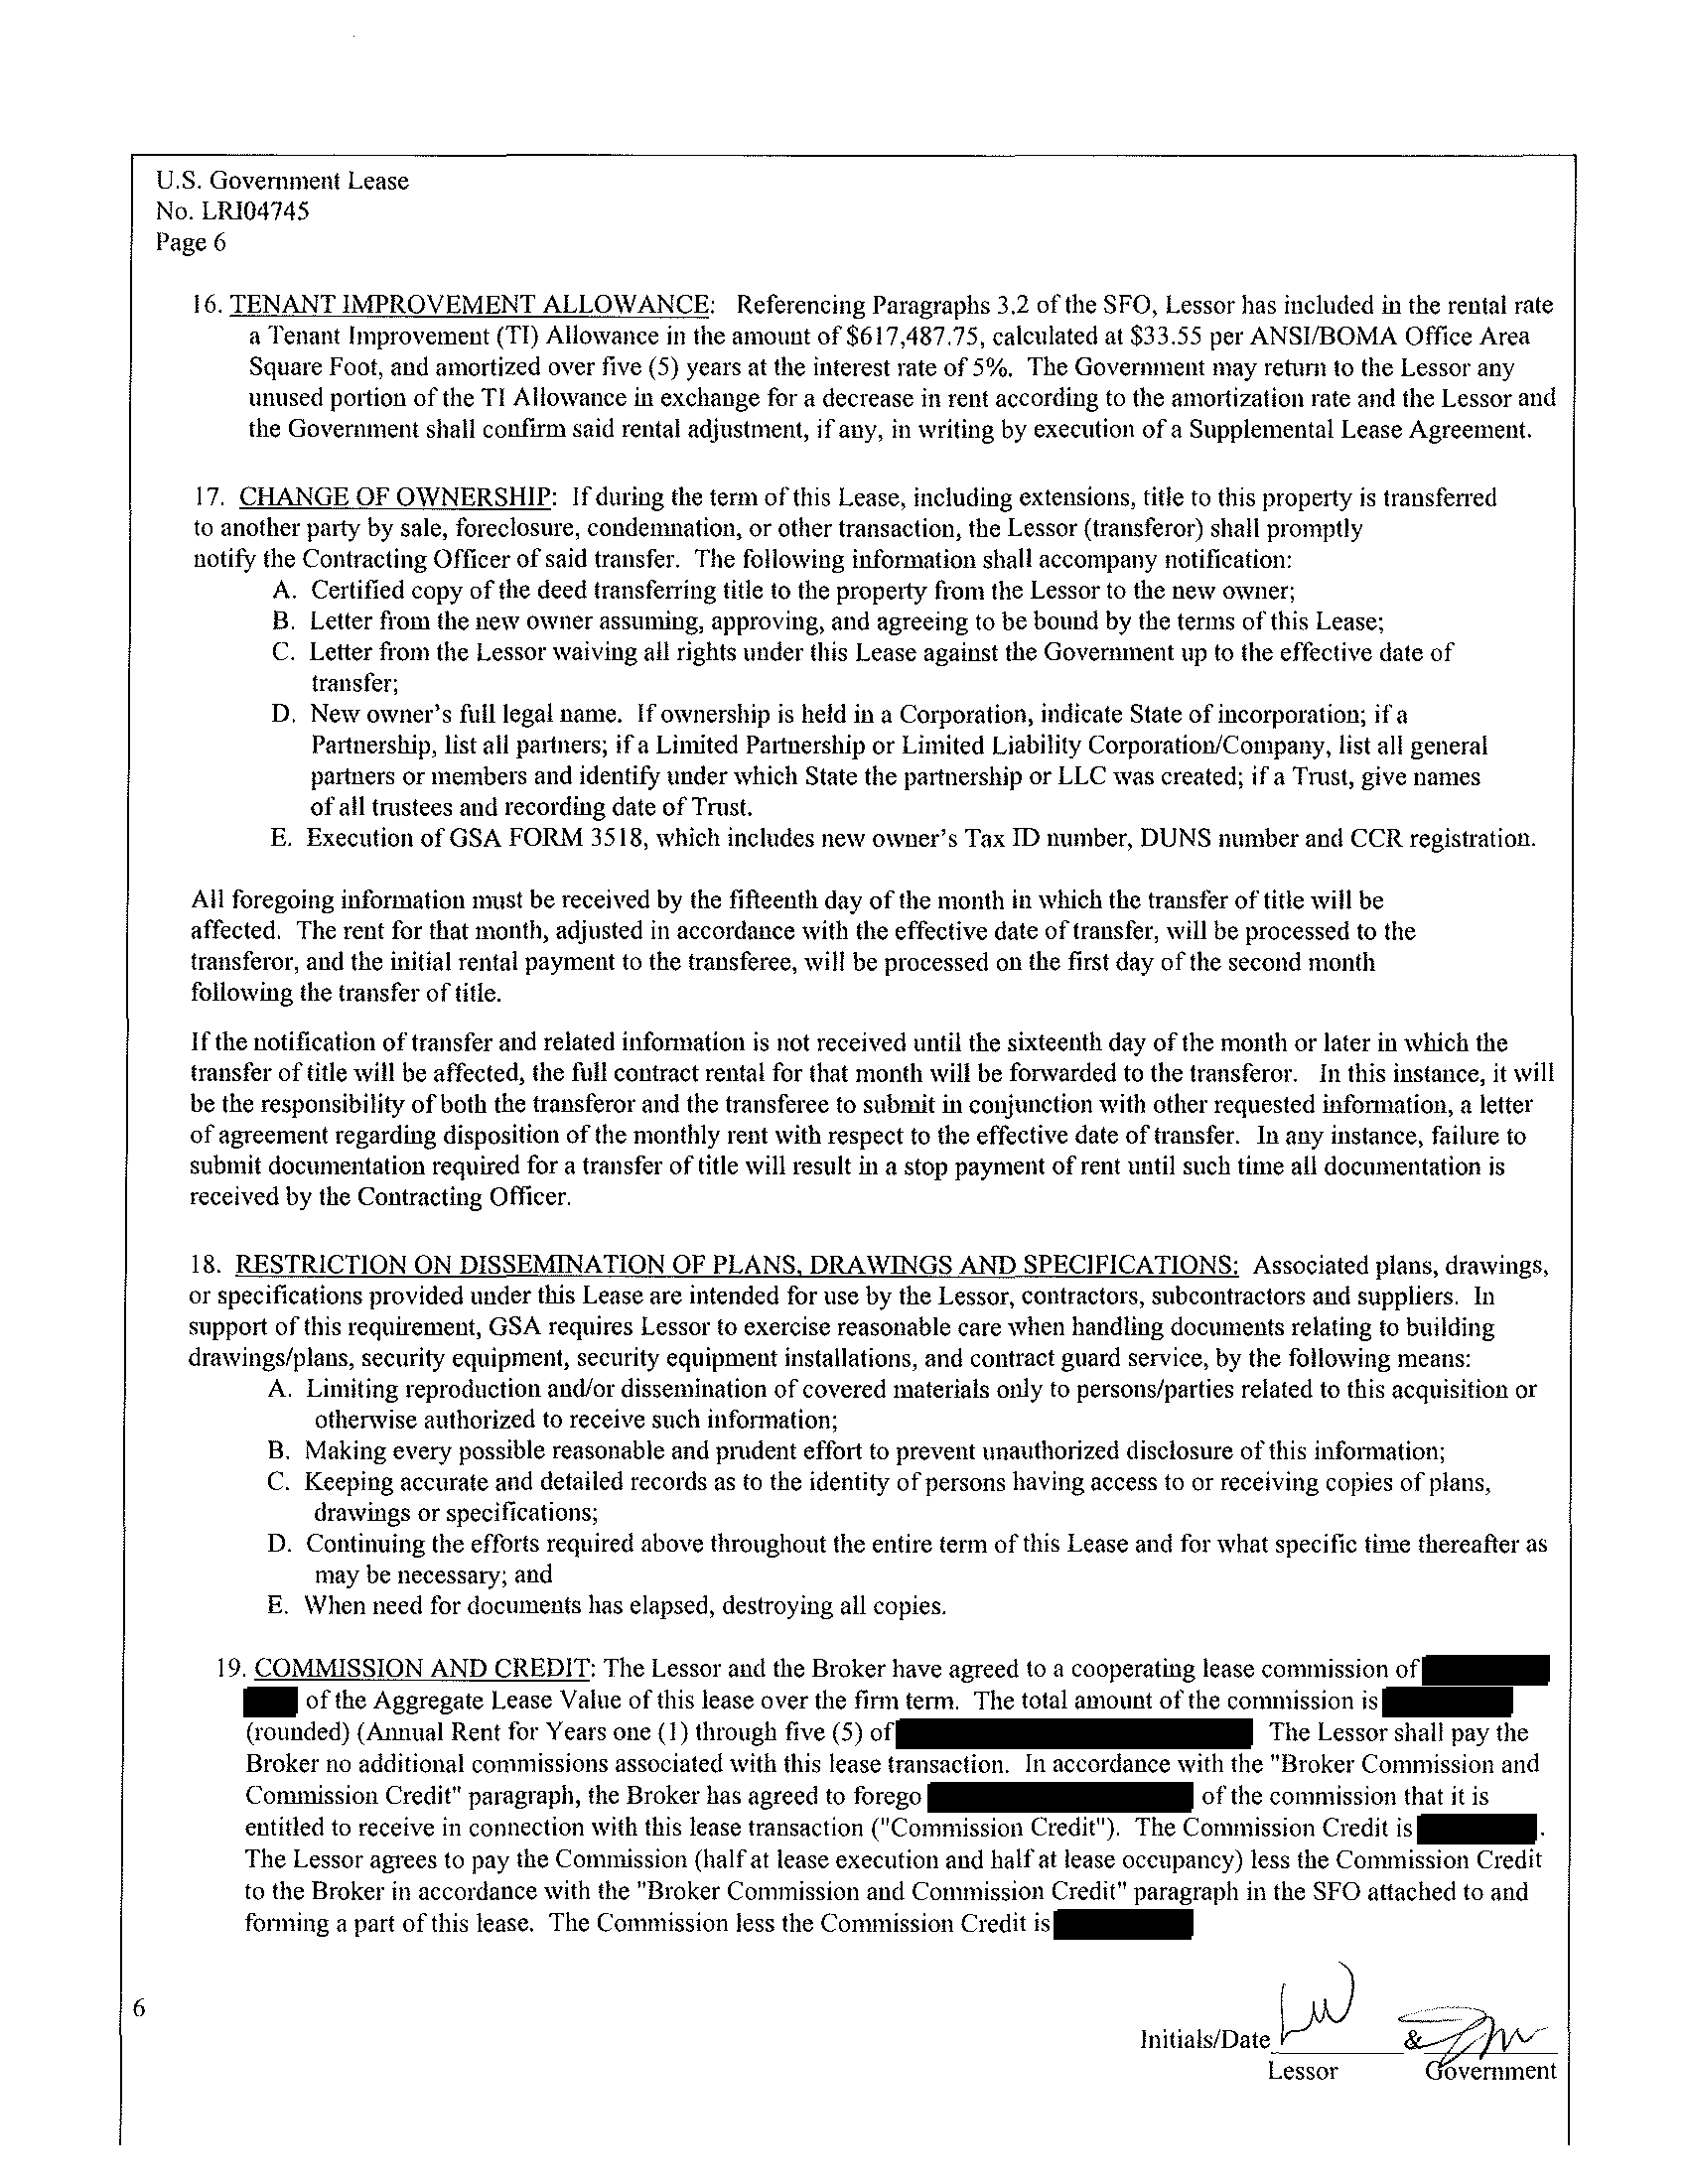handwritten: (1273, 1954, 1550, 2062)
